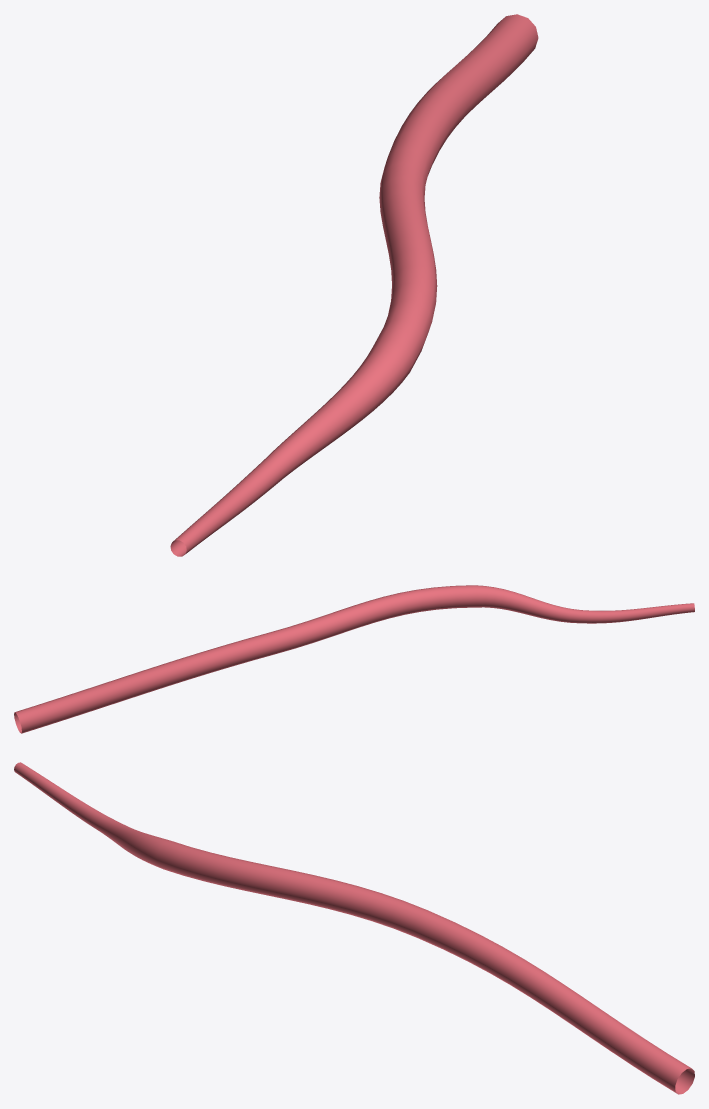
3 renders of one model, top to bottom at view 1: azimuth 30°, elevation 25°; view 2: azimuth 150°, elevation 25°; view 3: azimuth 270°, elevation 25°, orthographic. The views are drawn at different scales.
Parts seen in each view (by area): view 1: ZA_669be6754851914c; view 2: ZA_669be6754851914c; view 3: ZA_669be6754851914c.
Boxes of the visible parts, x1,y1,x2,y2 form: ZA_669be6754851914c: [170, 14, 538, 556]; ZA_669be6754851914c: [14, 585, 694, 733]; ZA_669be6754851914c: [14, 762, 694, 1094].
Size of the model in its own units: 0.0221 by 0.00346 by 0.023.
